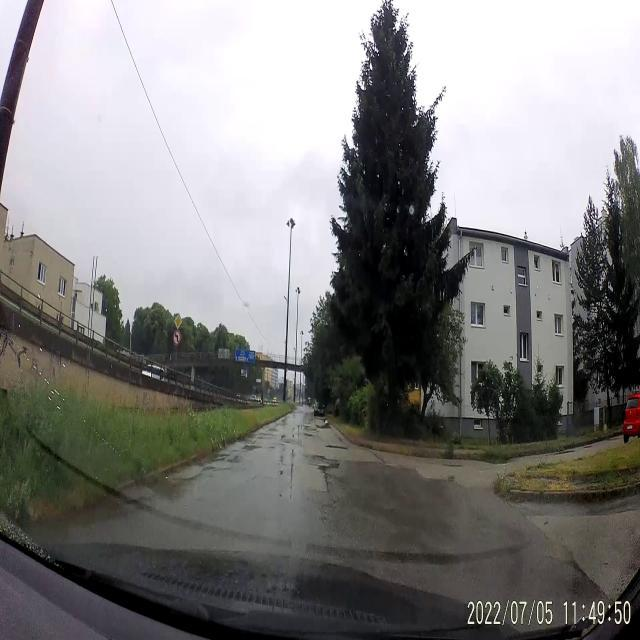Pothole: (325, 440, 348, 454)
